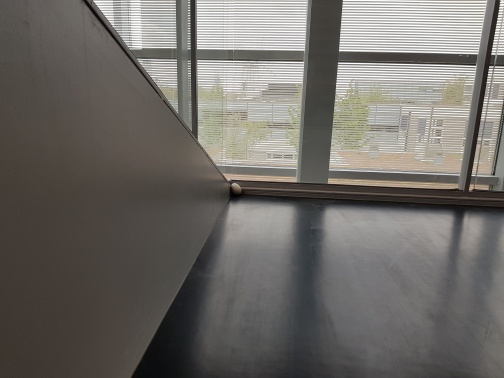egg: (229, 181, 244, 195)
